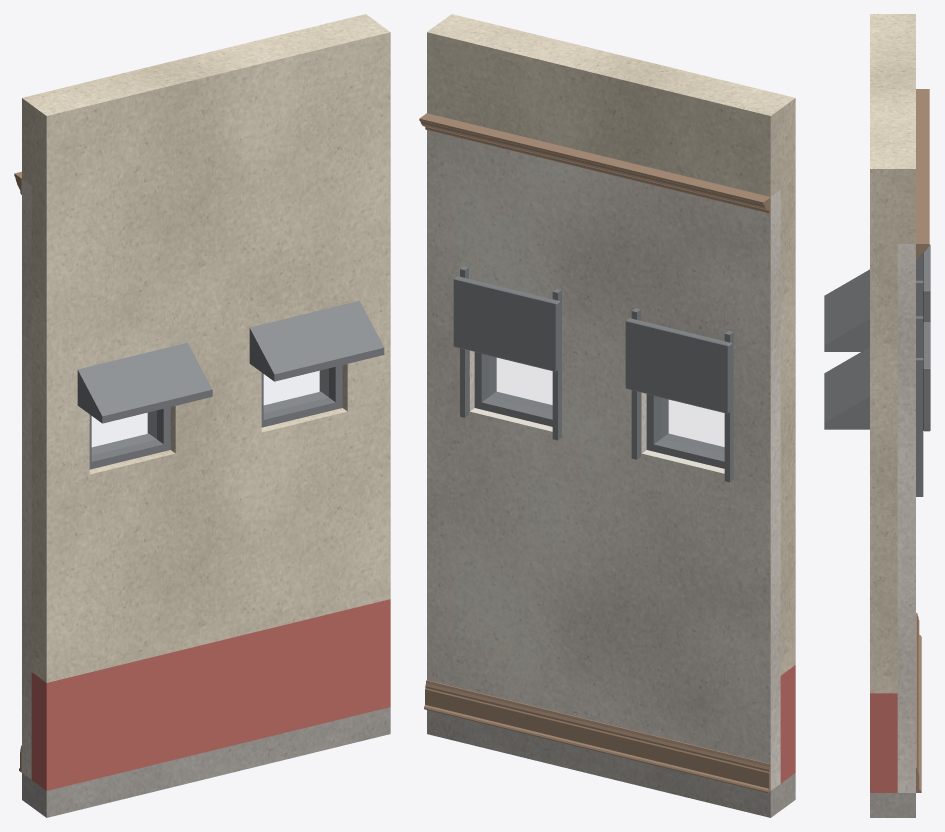
The model's file is w_port.glb.
The picture shows the model from 3 angles, left to right: view 1: azimuth 30°, elevation 25°; view 2: azimuth 150°, elevation 25°; view 3: azimuth 270°, elevation 25°; orthographic projection. The views are drawn at different scales.
Parts seen in each view (by area): view 1: w_port_render, w_port_tile_r, w_port_steel_d, w_port_concrete, w_port_plaster, w_port_glass; view 2: w_port_plaster, w_port_render, w_port_steel_d, molduras, w_port_concrete, w_port_glass, w_port_tile_r; view 3: w_port_render, w_port_plaster, w_port_steel_d, molduras, w_port_tile_r, w_port_concrete.
Boxes of the visible parts, left/top/right/bottom form: w_port_render: left=22, top=14, right=390, bottom=682; w_port_tile_r: left=31, top=599, right=390, bottom=790; w_port_steel_d: left=77, top=300, right=384, bottom=469; w_port_concrete: left=22, top=707, right=390, bottom=817; w_port_plaster: left=22, top=179, right=31, bottom=779; w_port_glass: left=92, top=369, right=328, bottom=454; w_port_plaster: left=427, top=130, right=780, bottom=790; w_port_render: left=427, top=14, right=795, bottom=675; w_port_steel_d: left=453, top=266, right=733, bottom=482; molduras: left=419, top=113, right=770, bottom=792; w_port_concrete: left=427, top=710, right=795, bottom=817; w_port_glass: left=490, top=356, right=723, bottom=453; w_port_tile_r: left=780, top=665, right=795, bottom=783; w_port_render: left=870, top=14, right=915, bottom=693; w_port_plaster: left=897, top=244, right=915, bottom=792; w_port_steel_d: left=824, top=244, right=930, bottom=496; molduras: left=916, top=89, right=929, bottom=792; w_port_tile_r: left=870, top=693, right=897, bottom=792; w_port_concrete: left=870, top=793, right=915, bottom=817.
Bounding box in the file's own units: 2 × 3.9 × 0.58.
7 materials, 3 textured.
